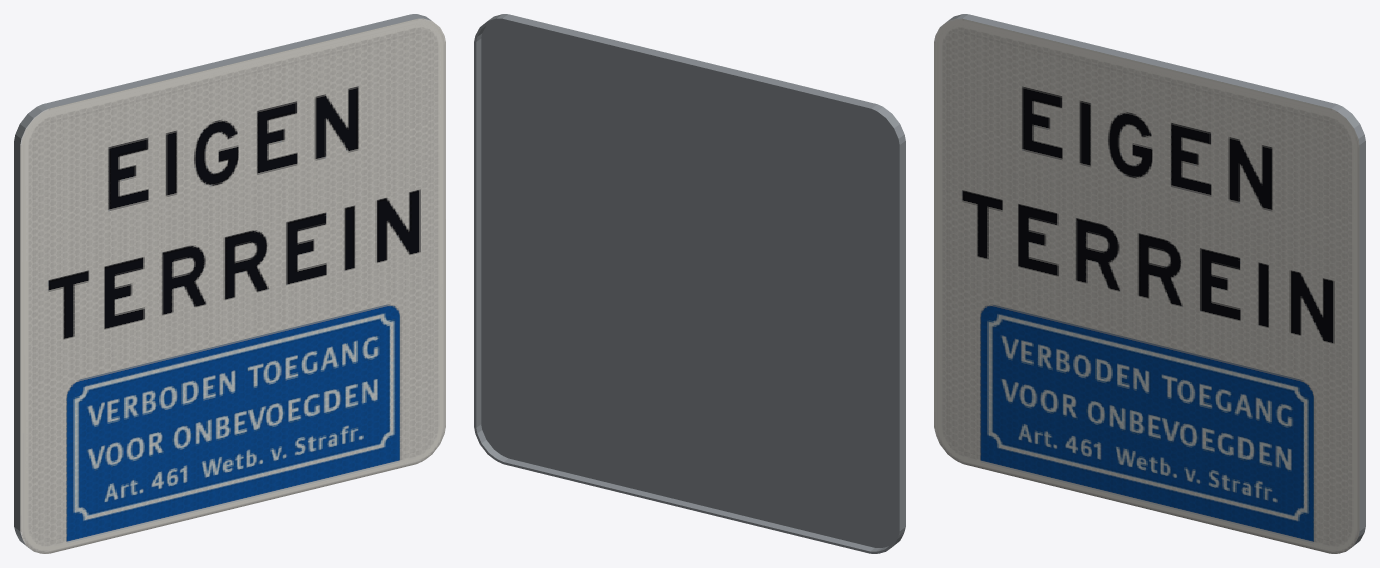
3 views of the same model, side by side, from view 1: azimuth 30°, elevation 25°; view 2: azimuth 150°, elevation 25°; view 3: azimuth 330°, elevation 25° (orthographic).
Visible parts, largest first — view 1: cat_7427b69a375c227c; view 2: cat_7427b69a375c227c; view 3: cat_7427b69a375c227c.
Boxes of the visible parts, x1,y1,x2,y2 form: cat_7427b69a375c227c: [14, 14, 445, 553]; cat_7427b69a375c227c: [474, 14, 905, 553]; cat_7427b69a375c227c: [934, 14, 1365, 553].
Size of the model in its own units: 0.6 by 0.015 by 0.6.
2 materials, 1 textured.
